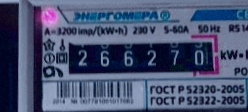0: (192, 46, 203, 66)
2: (75, 46, 89, 67), (145, 47, 157, 67)
6: (98, 48, 110, 68), (122, 47, 134, 66)
7: (168, 47, 180, 66)
screen: (55, 27, 228, 86)
